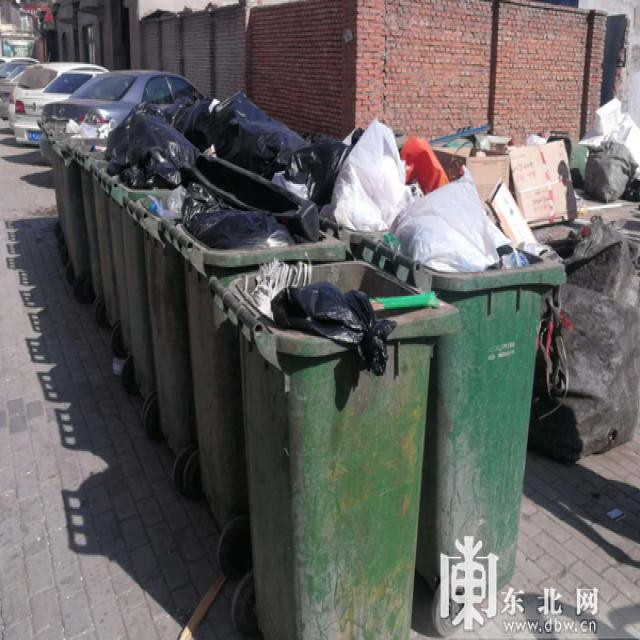overflow: (211, 257, 460, 638), (414, 162, 567, 636), (165, 203, 347, 533)
